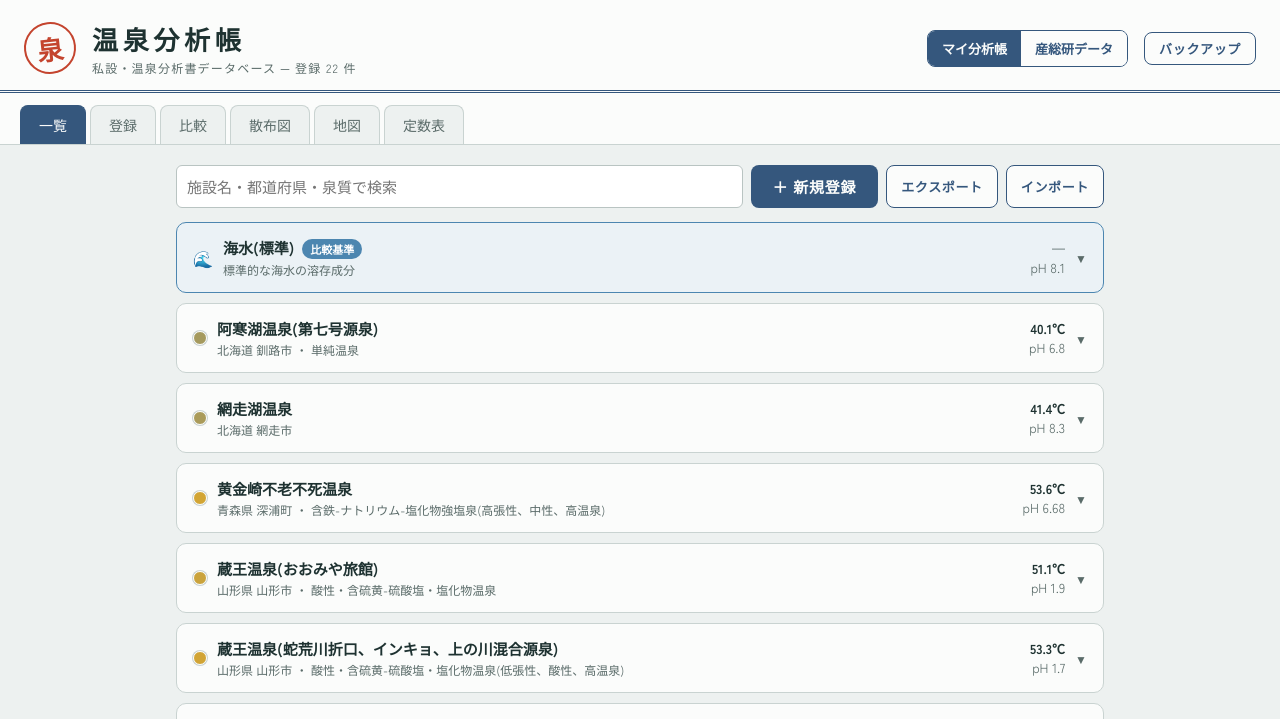
Test: 産総研データモード › モードを切り替えるとデータセットを読み込んで一覧が表示される
What coordinates should you click on to do the following:
click the button "産総研データ"
I would click on:
 (1074, 48)
Its box is x1=1021 y1=30 x2=1127 y2=66.
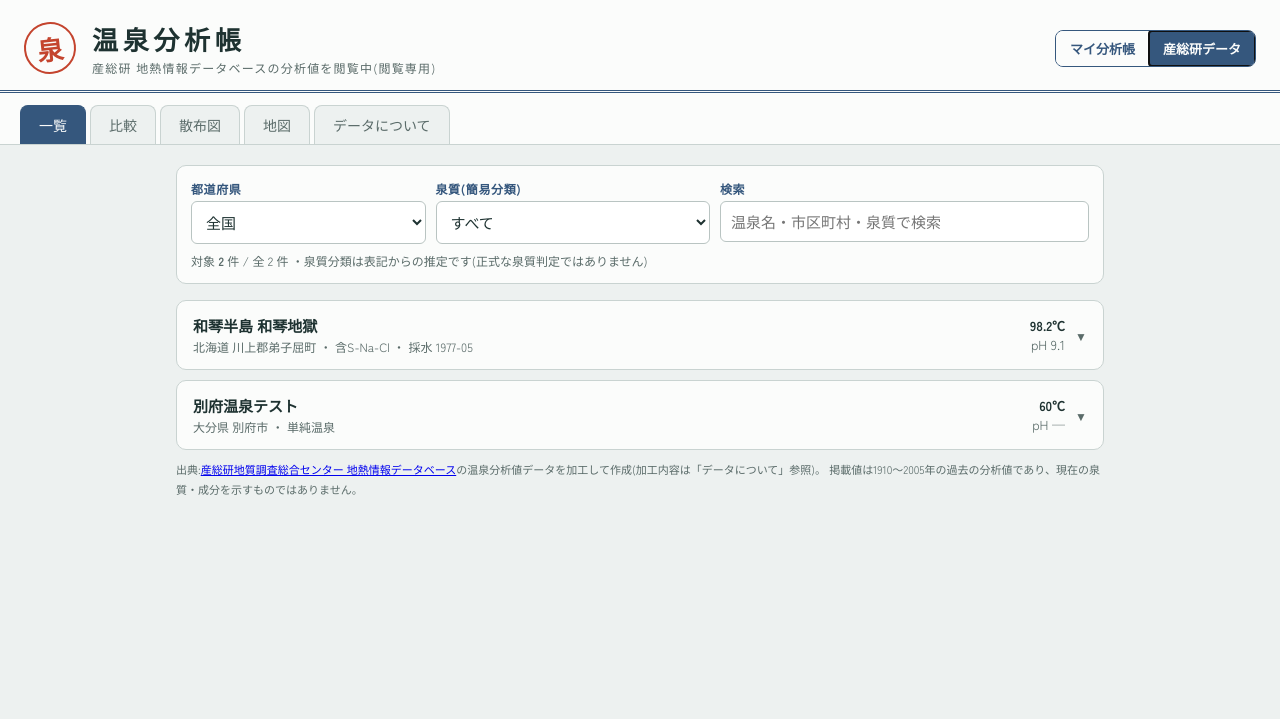
Expected: the text "和琴半島 和琴地獄" is shown, x1=193 y1=315 x2=317 y2=336
Expected: the text "対象 2 件 / 全 2 件 ・泉質分類は表記からの推定です(正式な泉質判定ではありません)" is shown, x1=191 y1=252 x2=648 y2=269
Expected: the text "産総研 地熱情報データベースの分析値を閲覧中(閲覧専用)" is shown, x1=92 y1=59 x2=437 y2=76
